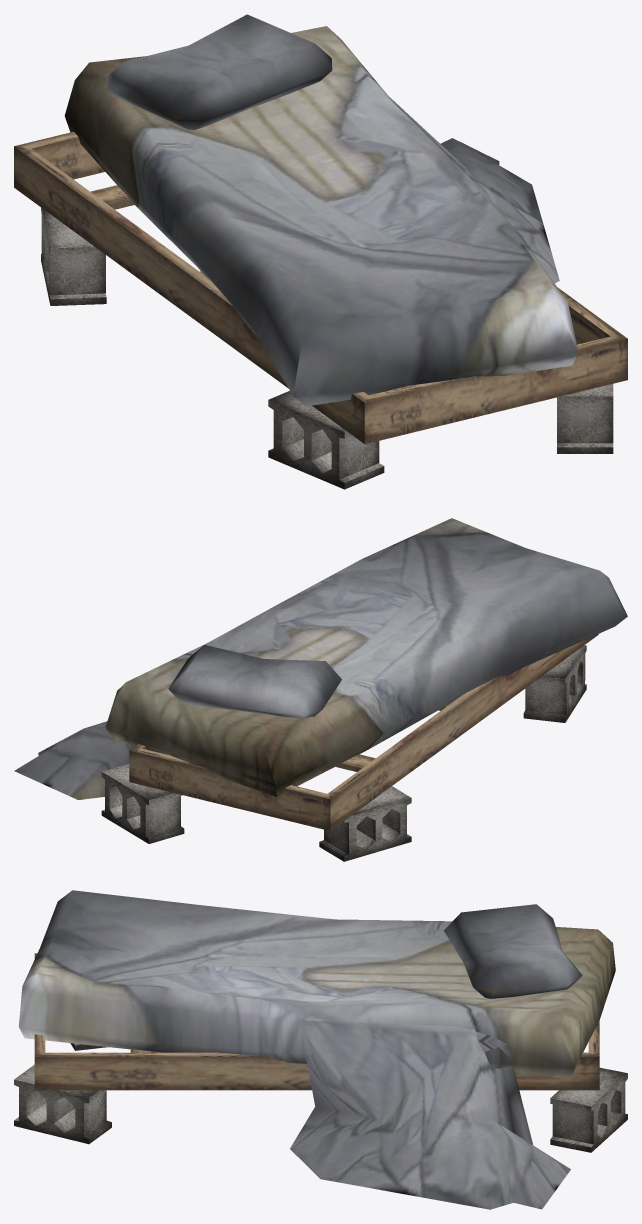
Rendered from Bed02.glb.
3 views of the same model, one above another, from view 1: azimuth 30°, elevation 25°; view 2: azimuth 150°, elevation 25°; view 3: azimuth 270°, elevation 25° (orthographic). The views are drawn at different scales.
Visible parts, largest first — view 1: _Bed02; view 2: _Bed02; view 3: _Bed02.
Part boxes in pixels (x1,y1,x2,y2): _Bed02: (14,14,627,489); _Bed02: (14,518,627,861); _Bed02: (14,890,627,1209).
Size of the model in its own units: 2.05 by 0.7575 by 2.69.
Materials: 1 (1 with a texture image).
